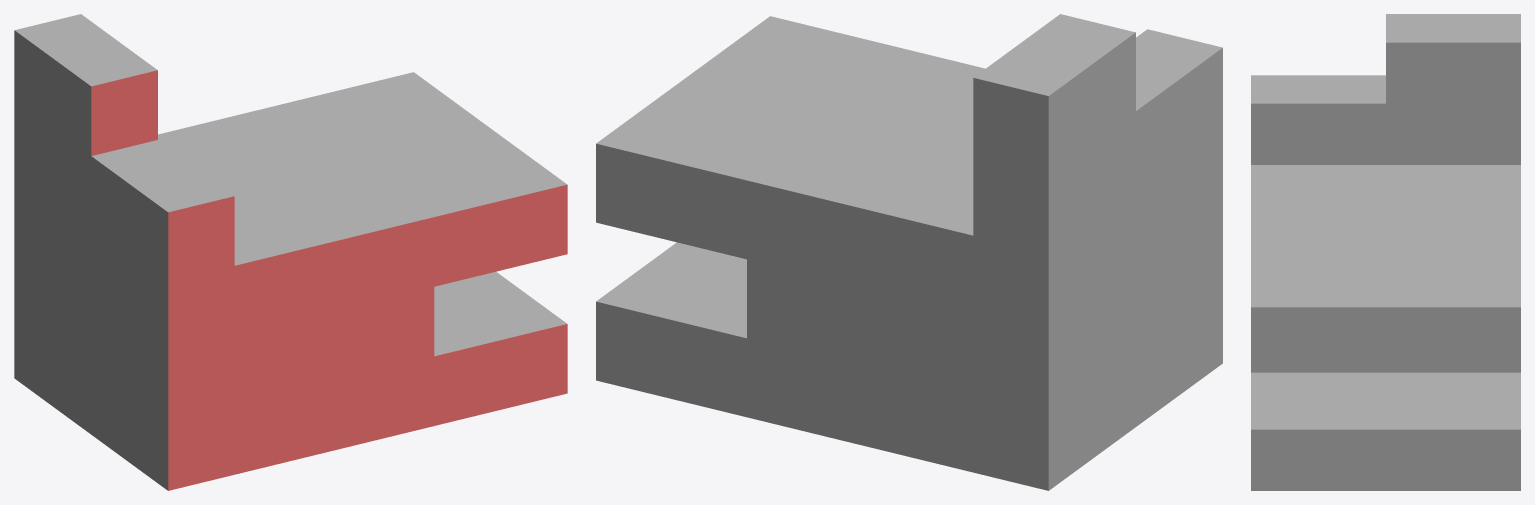
3 views of the same model, side by side, from view 1: azimuth 30°, elevation 25°; view 2: azimuth 150°, elevation 25°; view 3: azimuth 270°, elevation 25° (orthographic). The views are drawn at different scales.
Parts seen in each view (by area): view 1: ④.SLDPRT; view 2: ④.SLDPRT; view 3: ④.SLDPRT.
Boxes of the visible parts, x1,y1,x2,y2 form: ④.SLDPRT: [14, 14, 567, 490]; ④.SLDPRT: [596, 14, 1222, 490]; ④.SLDPRT: [1251, 14, 1520, 490].
Bounding box in the file's own units: 0.06 × 0.05 × 0.04.
